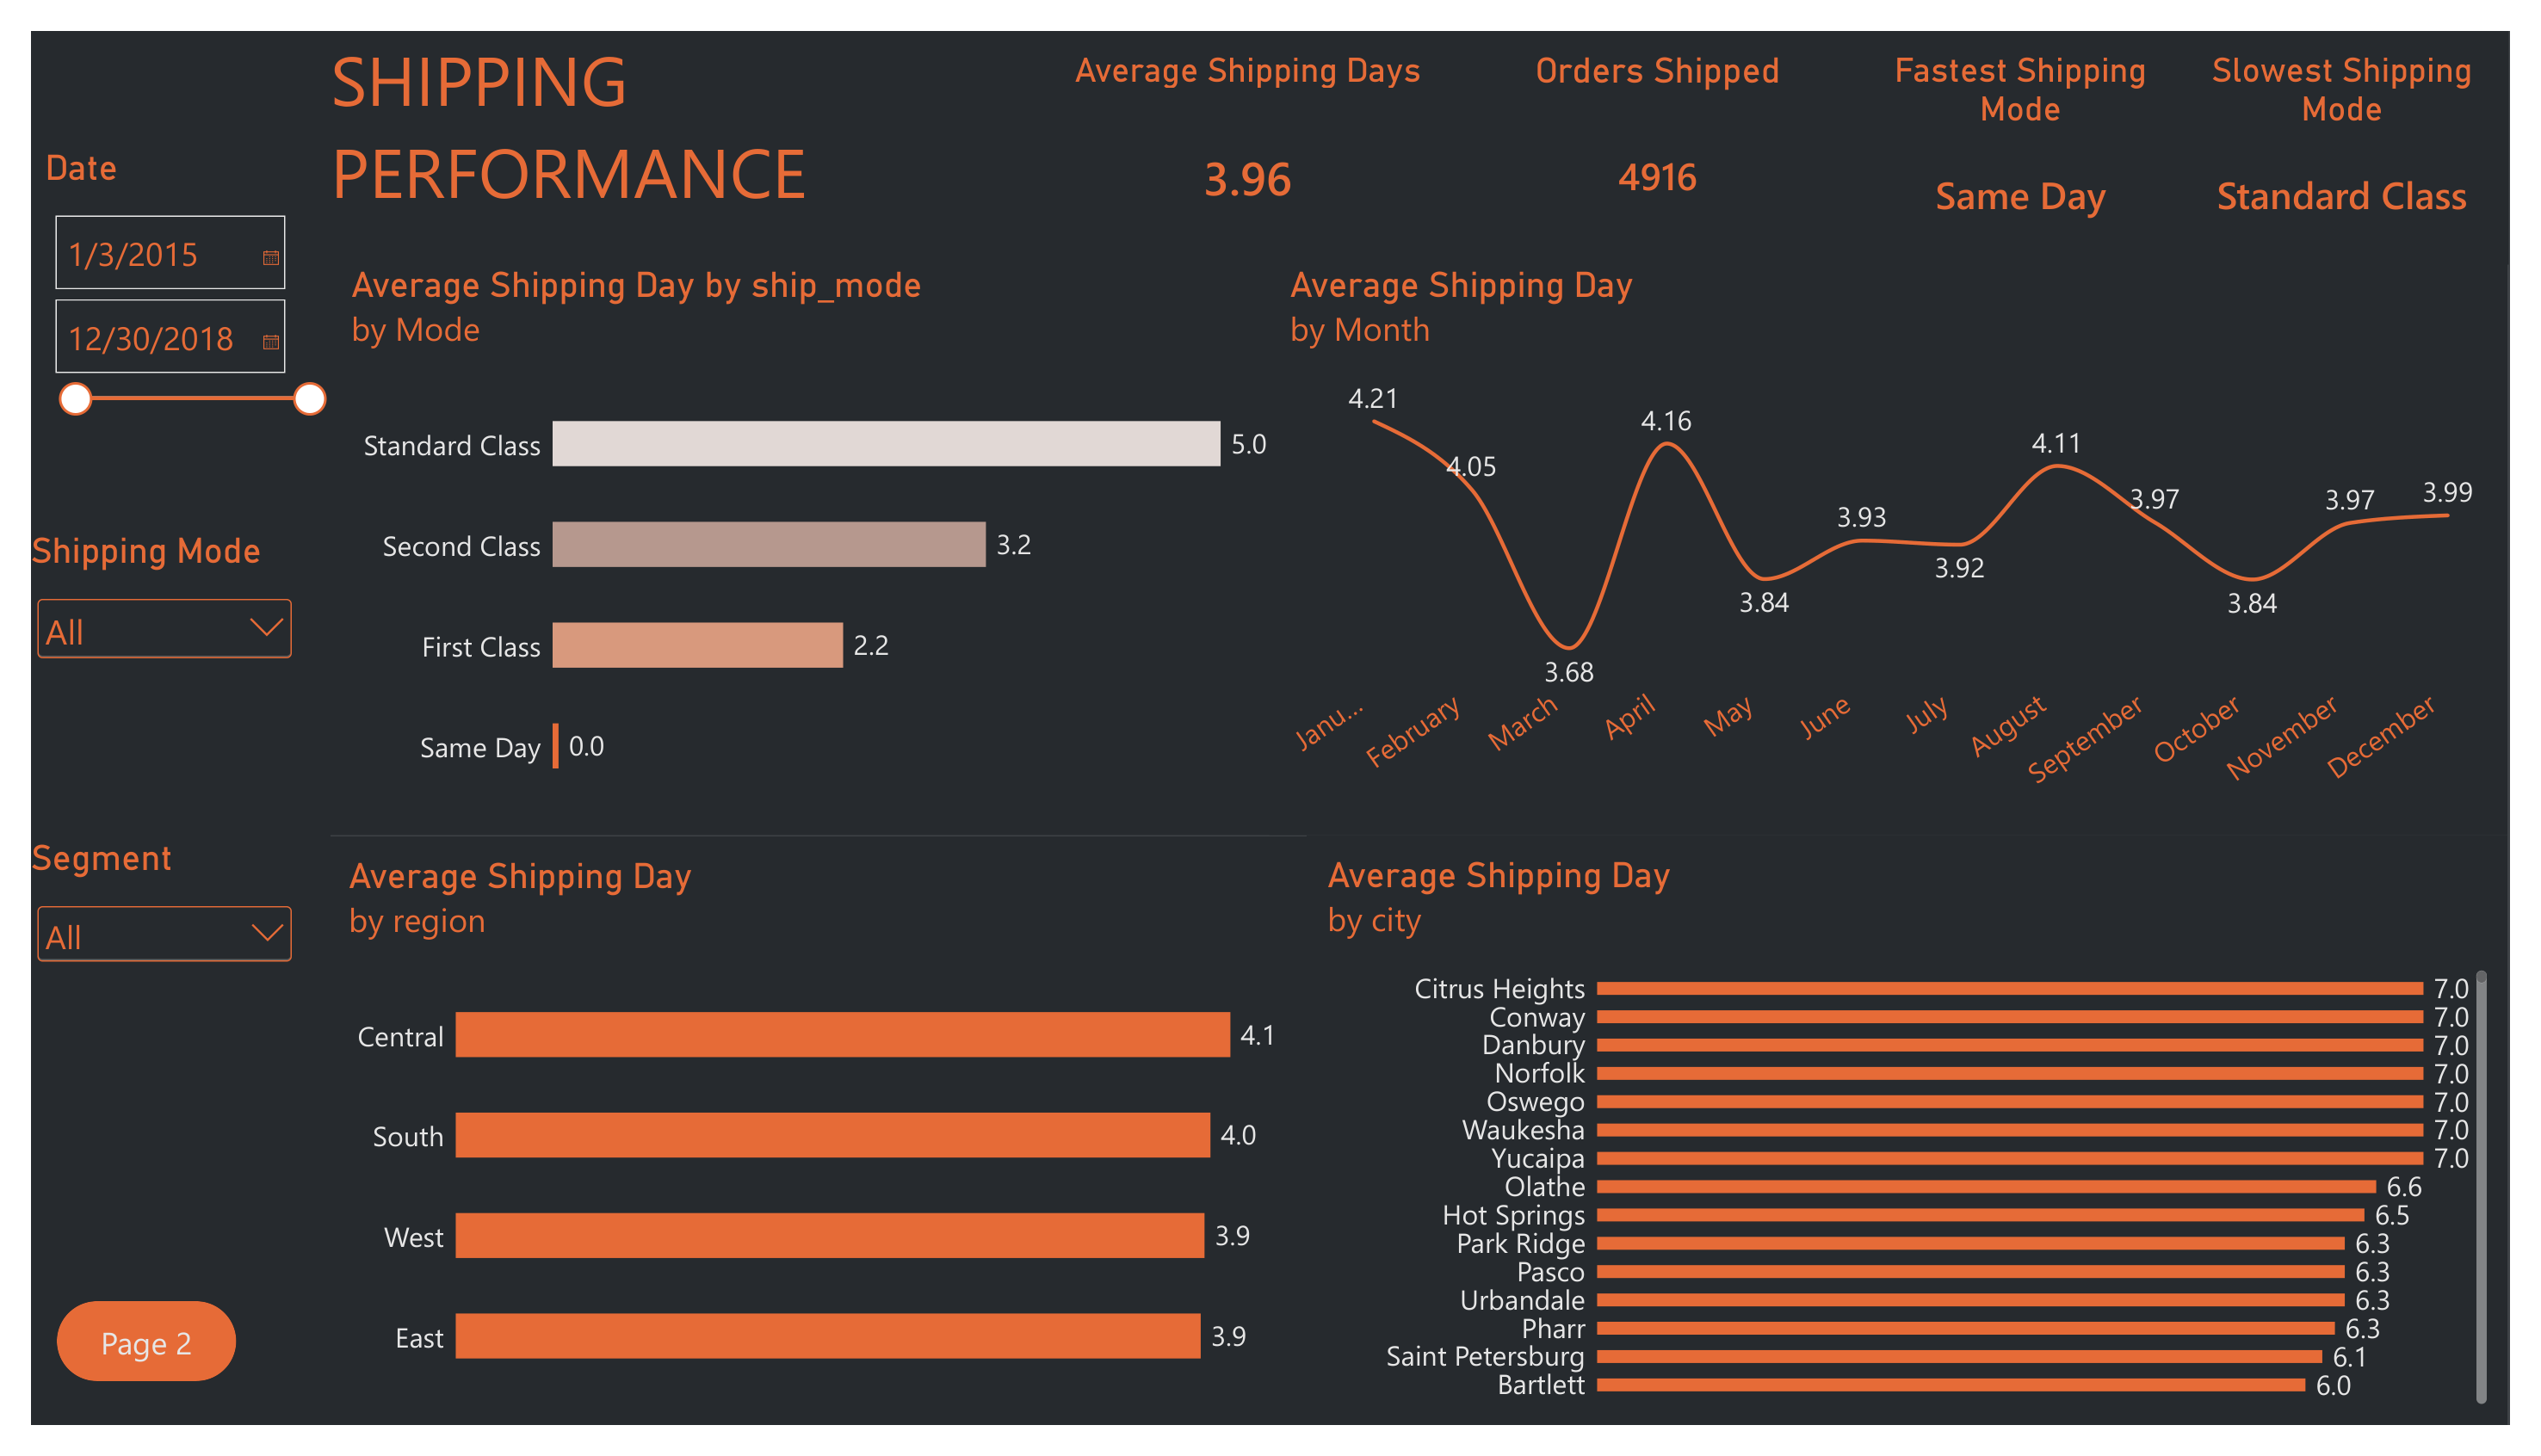

The dashboard page shown, as its layout file describes it:
{"tool":"powerbi","page":{"name":"Shipping Performance","canvas":[1920,1080],"ordinal":1},"visuals":[{"type":"shape","box":[0,0,232.4,1080],"z":0},{"type":"card","title":"Average Shipping Days","fields":{"Values":["Sheet1.Average Shipping Day"]},"box":[753.2,0,379,182.4],"z":1000},{"type":"card","title":"Orders Shipped","fields":{"Values":["Count(Sheet1.order_id)"]},"box":[1108.4,0,303.3,181.4],"z":2000},{"type":"card","title":"Fastest Shipping Mode","fields":{"Values":["Sheet1.Fastest Shipping_Mode"]},"box":[1411.7,0,258,181.4],"z":3000},{"type":"barChart","fields":{"Category":["Sheet1.ship_mode"],"Y":["Sheet1.Average Shipping Day"]},"box":[232.1,165.8,755.5,457.1],"z":4000},{"type":"lineChart","fields":{"Category":["Sheet1.order_date.Variation.Date Hierarchy.Month"],"Y":["Sheet1.Average Shipping Day"]},"box":[959.2,165.8,959.2,457.1],"z":5000},{"type":"slicer","title":"Segment","fields":{"Values":["Sheet1.segment"]},"box":[0,624.4,206.9,170.1],"z":6000},{"type":"textbox","box":[232.4,0,541.4,181.4],"z":7000},{"type":"slicer","title":"Shipping Mode","fields":{"Values":["Sheet1.ship_mode"]},"box":[0,385.5,206.9,238.1],"z":8000},{"type":"clusteredBarChart","fields":{"Category":["Sheet1.region"],"Y":["Sheet1.Average Shipping Day"]},"box":[229.6,623.6,779.5,456.4],"z":9000},{"type":"barChart","fields":{"Category":["Sheet1.city"],"Y":["Sheet1.Average Shipping Day"]},"box":[987.6,622.9,930.8,457.1],"z":10000},{"type":"card","title":"Slowest Shipping Mode","fields":{"Values":["Sheet1.Slowest Shipping_Mode"]},"box":[1661.1,0,258,181.4],"z":11000},{"type":"actionButton","box":[19.8,983.6,138.9,62.4],"z":12000},{"type":"slicer","title":"Date","fields":{"Values":["Sheet1.order_date"]},"box":[11.4,88.6,220.3,240.8],"z":13000}]}

Visuals, with their boxes in screenshot pixels (x1, y1, x2, y2), scaled from the page's 1920x1080 canvas onto the 2541x1456 screenshot:
shape: l=0, t=0, r=307, b=1455
"Average Shipping Days" card: l=997, t=0, r=1499, b=246
"Orders Shipped" card: l=1467, t=0, r=1868, b=244
"Fastest Shipping Mode" card: l=1868, t=0, r=2210, b=244
barChart - Sheet1.ship_mode x Sheet1.Average Shipping Day: l=307, t=224, r=1307, b=840
lineChart - Sheet1.order_date.Variation.Date Hierarchy.Month x Sheet1.Average Shipping Day: l=1270, t=224, r=2539, b=840
"Segment" slicer: l=0, t=842, r=274, b=1071
textbox: l=307, t=0, r=1024, b=244
"Shipping Mode" slicer: l=0, t=520, r=274, b=841
clusteredBarChart - Sheet1.region x Sheet1.Average Shipping Day: l=304, t=841, r=1335, b=1455
barChart - Sheet1.city x Sheet1.Average Shipping Day: l=1307, t=840, r=2539, b=1455
"Slowest Shipping Mode" card: l=2198, t=0, r=2540, b=244
actionButton: l=26, t=1326, r=210, b=1410
"Date" slicer: l=15, t=120, r=306, b=444
